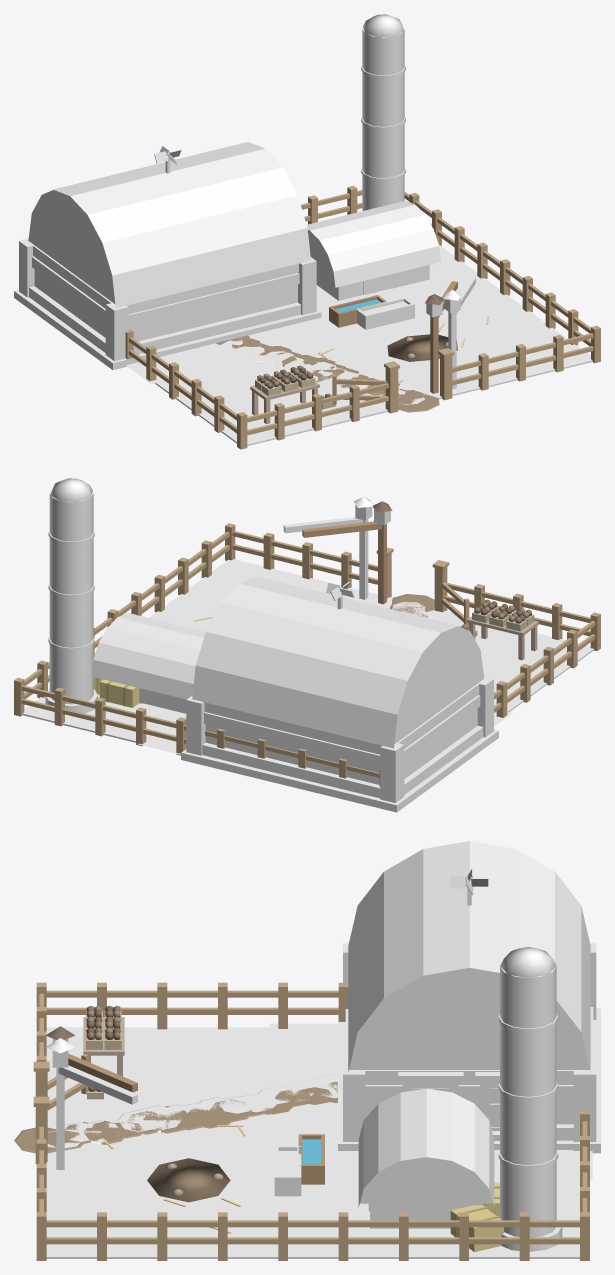
The model's file is pig_pen_1.glb.
3 views of the same model, one above another, from view 1: azimuth 30°, elevation 25°; view 2: azimuth 150°, elevation 25°; view 3: azimuth 270°, elevation 25° (orthographic). The views are drawn at different scales.
Visible parts, largest first — view 1: when_plan_true, body4, pig_pen_1; view 2: when_plan_true, body4, body3, body; view 3: when_plan_true, body4, pig_pen_1, body3.
Part boxes in pixels (x1,y1,x2,y2): when_plan_true: (14, 14, 475, 404); body4: (125, 185, 600, 449); pig_pen_1: (259, 303, 358, 344); when_plan_true: (45, 478, 511, 812); body4: (14, 501, 600, 786); body3: (460, 599, 499, 636); body: (506, 608, 534, 631); when_plan_true: (45, 841, 600, 1251); body4: (14, 982, 589, 1260); pig_pen_1: (293, 1023, 337, 1145); body3: (86, 1027, 121, 1099).
Size of the model in its own units: 2.75 by 1.57 by 2.8.
